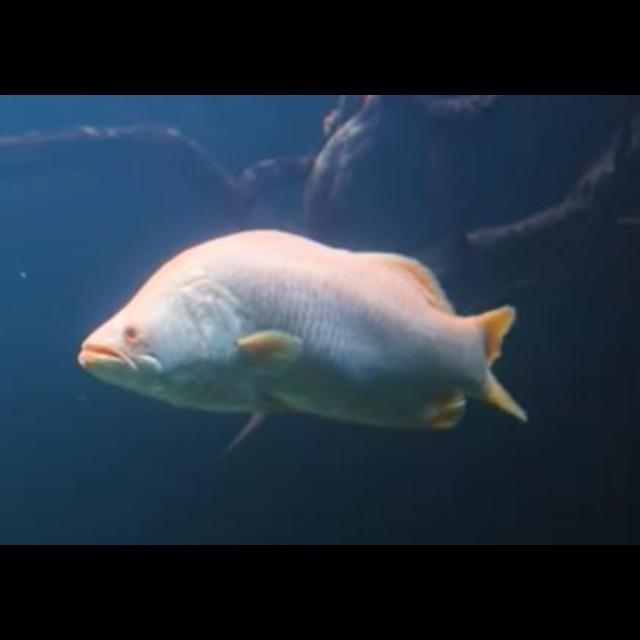Seabass: (76, 228, 532, 460)
